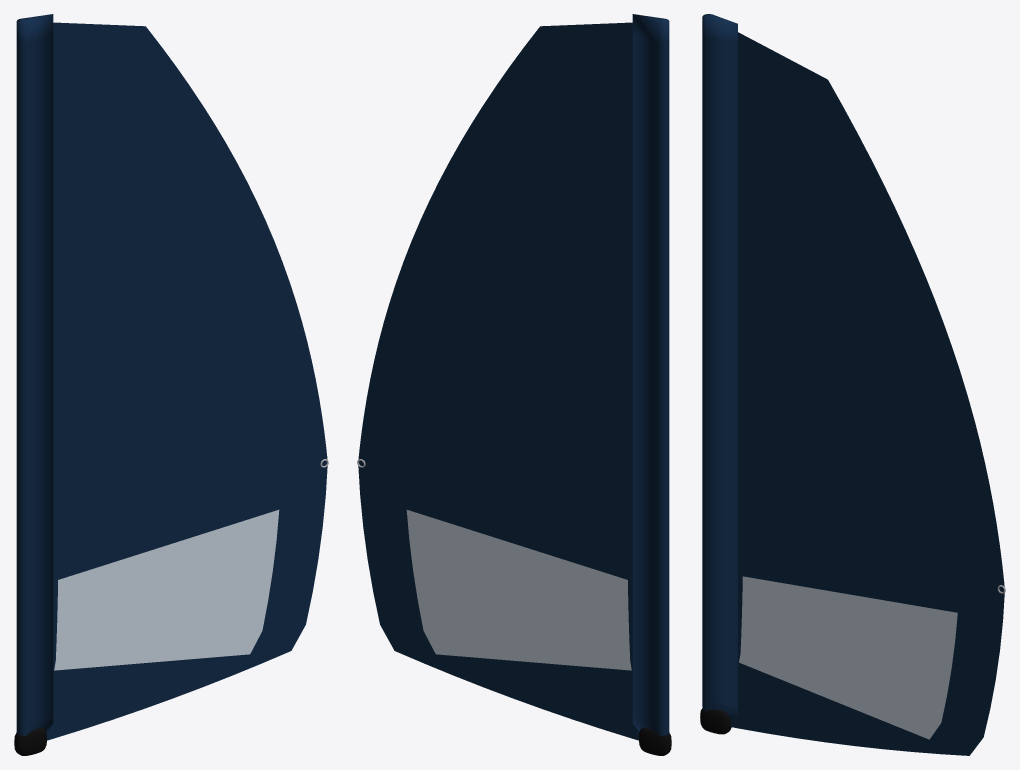
Rendered from southsails_slalom_6_0.glb.
The picture shows the model from 3 angles, left to right: view 1: azimuth 30°, elevation 25°; view 2: azimuth 150°, elevation 25°; view 3: azimuth 330°, elevation 25°; orthographic projection. The views are drawn at different scales.
Visible parts, largest first — view 1: SailCloth, TackFairing; view 2: SailCloth, TackFairing; view 3: SailCloth, TackFairing.
Part boxes in pixels (x1,y1,x2,y2): SailCloth: (16, 14, 327, 740); TackFairing: (14, 727, 46, 755); SailCloth: (358, 14, 669, 740); TackFairing: (639, 727, 671, 755); SailCloth: (702, 14, 1004, 755); TackFairing: (700, 708, 731, 734).
Size of the model in its own units: 1.88 by 4.23 by 0.08.
